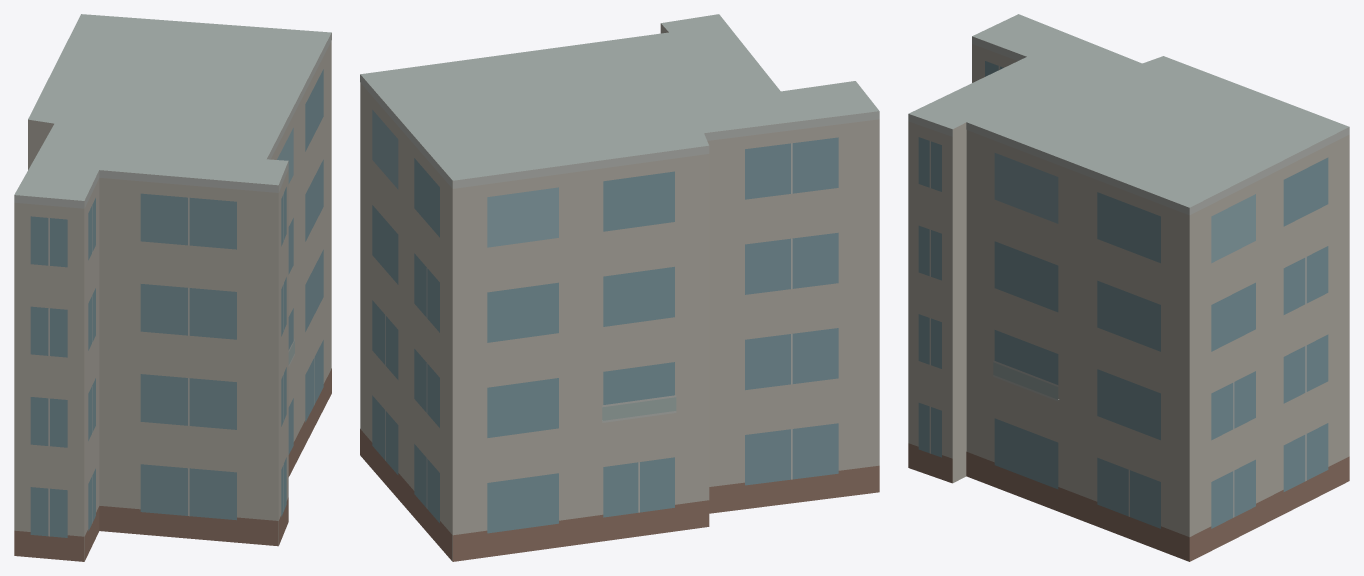
File: survey-upis-32535132.glb
The picture shows the model from 3 angles, left to right: view 1: azimuth 30°, elevation 25°; view 2: azimuth 150°, elevation 25°; view 3: azimuth 270°, elevation 25°; orthographic projection. The views are drawn at different scales.
Visible parts, largest first — view 1: survey-upis-32535132.tmp; view 2: survey-upis-32535132.tmp; view 3: survey-upis-32535132.tmp.
Boxes of the visible parts, bbox=[...] form: survey-upis-32535132.tmp: bbox=[14, 14, 331, 561]; survey-upis-32535132.tmp: bbox=[360, 14, 879, 561]; survey-upis-32535132.tmp: bbox=[908, 14, 1349, 561].
Size of the model in its own units: 13.39 by 11.4 by 12.88.
